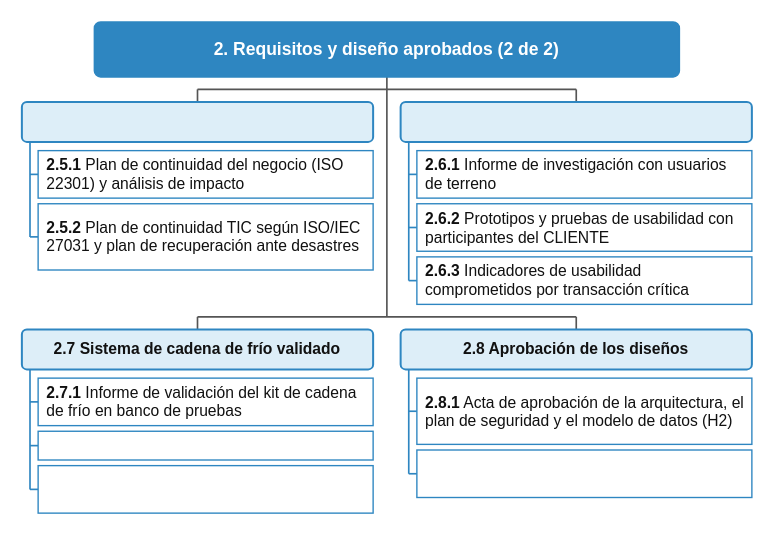
The diagram is 775 pixels wide and 536 high, and some of its shapes have lost their labels. The box of each missing label's shape, as (x1, y1, x2, y2) in pixels:
2.5 Continuidad del negocio: (20, 100, 374, 142)
2.6 Experiencia de usuario: (399, 100, 752, 142)
2.7.2 Mapeo térmico por tipo de carrocería: (37, 430, 373, 460)
2.7.3 Informe de piloto de cadena de frío en cuatro camiones: (37, 464, 373, 513)
2.8.2 Acta de aprobación del diseño detallado de la Etapa 2 (H8): (416, 449, 752, 498)
